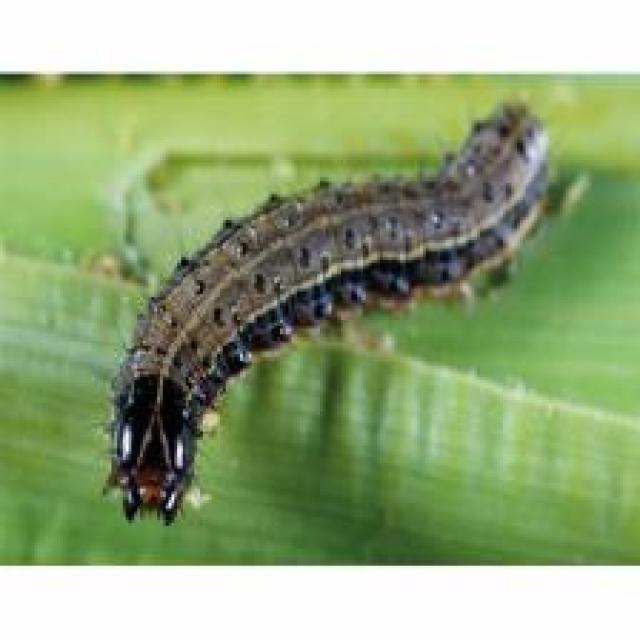Plaga: (97, 92, 557, 527)
